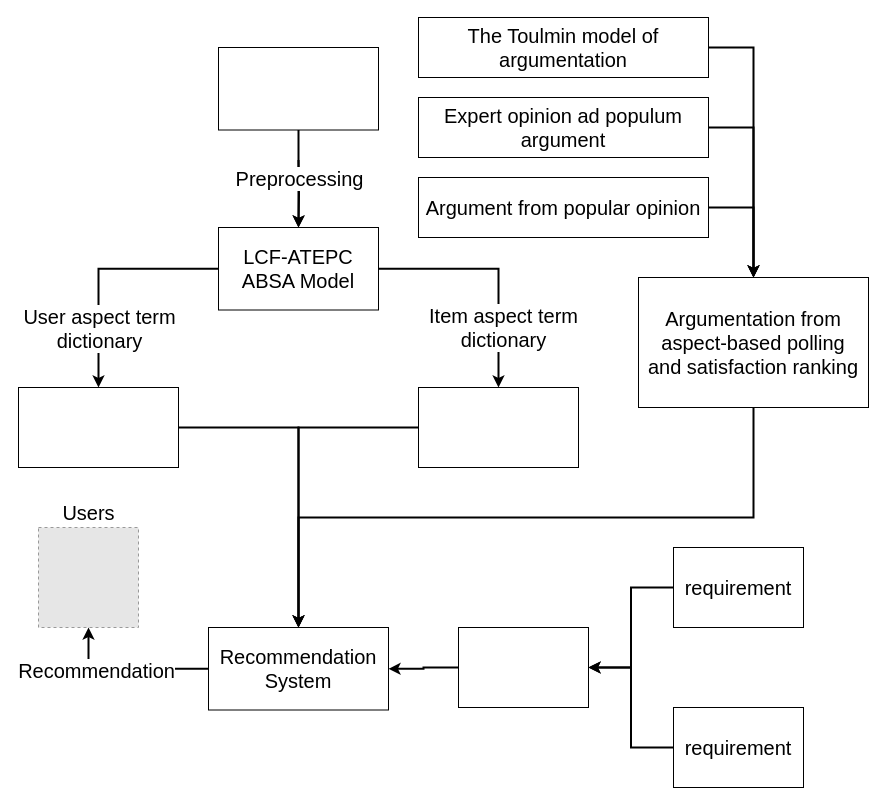
Some shapes in this 886 by 805 pixel diagram are drawn without their labels. Grey dashed boxes stand in for pictures. The shapes that lost their labels are listed below. From the top down, each one's centre as x and y in pixels, then its label:
the point at 298,88: Reviews
the point at 98,427: User Profiles
the point at 498,427: Item Profiles
the point at 523,667: satisfaction
